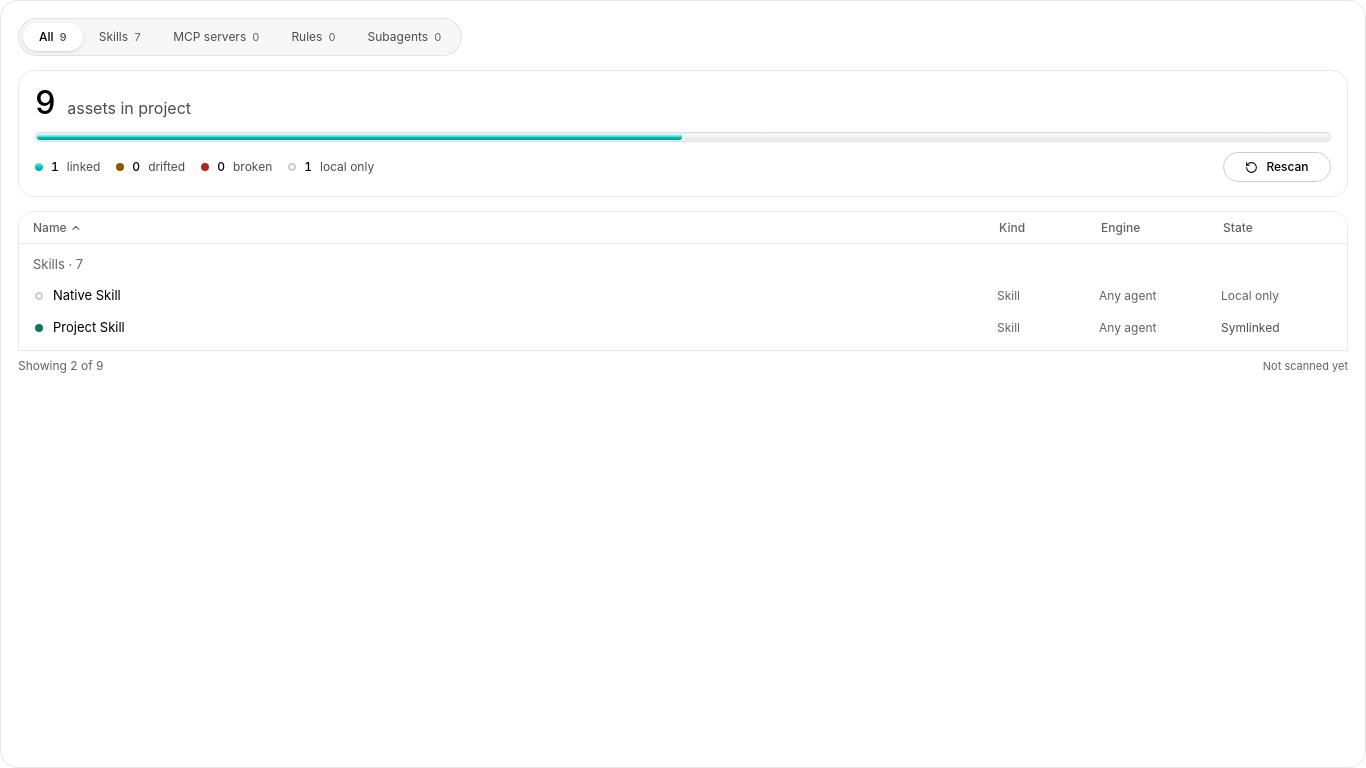
Test case: RepoPane Linking Gestures Integration › the strip follows the selected category: the repo's skill total and the skill noun
Click the tab "Skills 7" at (120, 37), box [83,23,157,51]
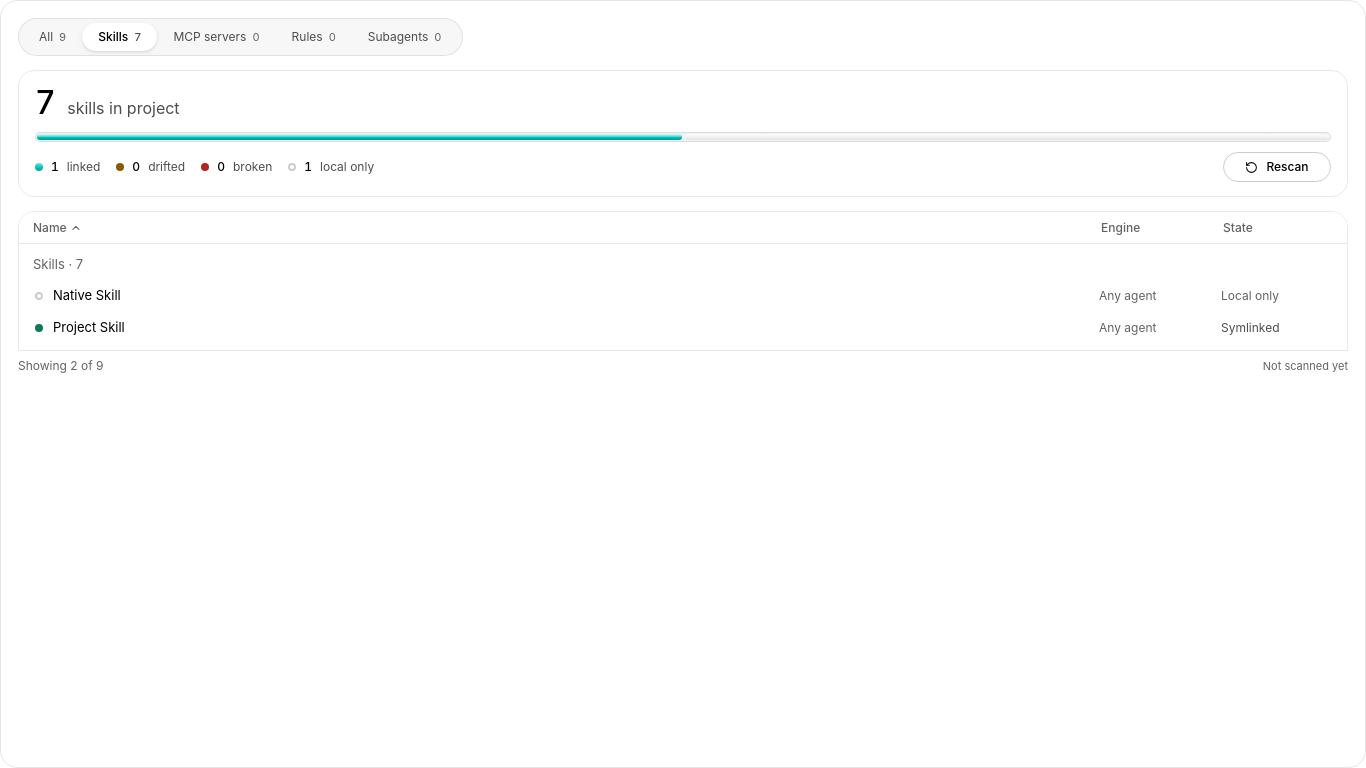
Result: the text "7" next to "skills in project" is shown at [35,83,55,122]
Result: the text "skills in project" is shown at [67,96,180,120]
